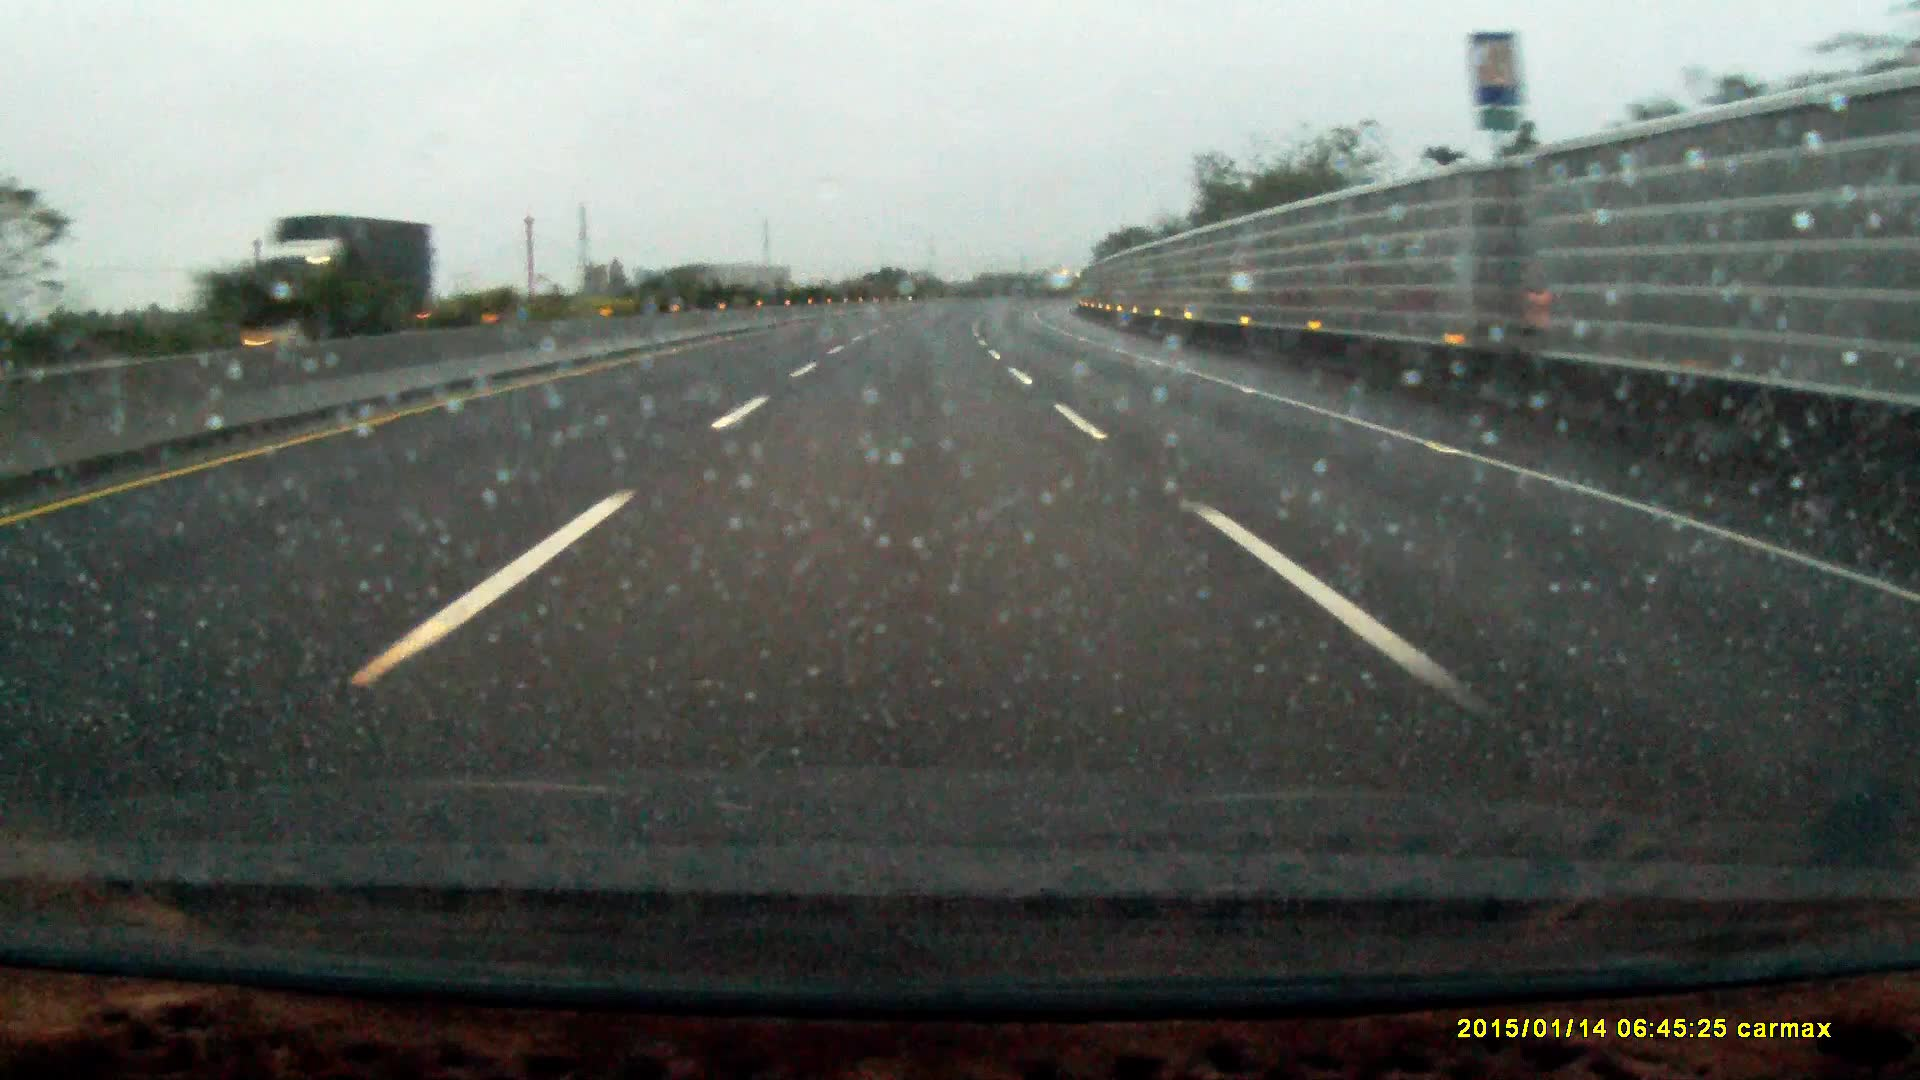vehicle: (249, 214, 436, 338)
